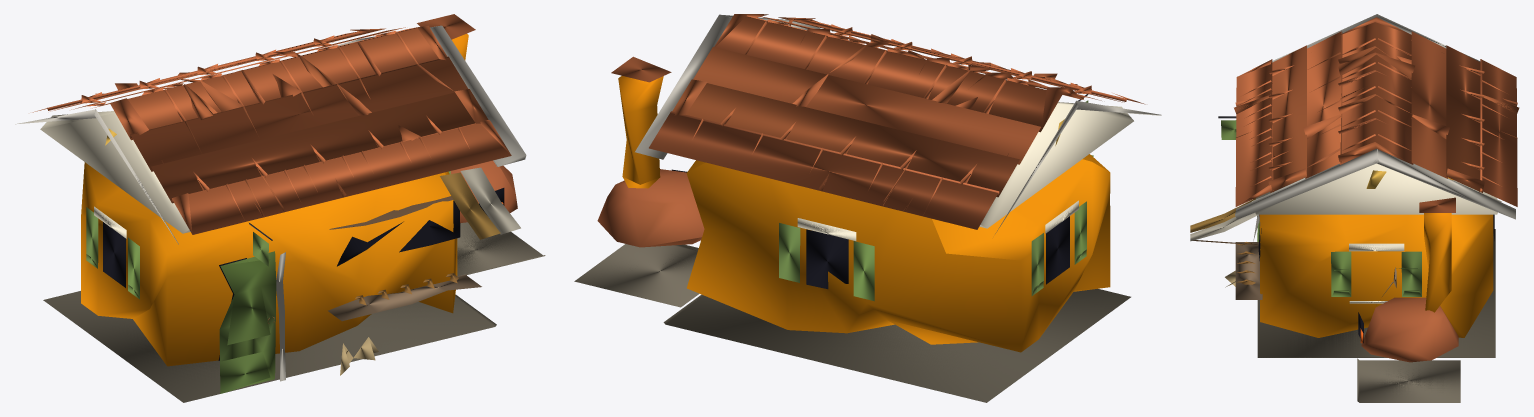
File: biz_bakery_t1.glb
3 views of the same model, side by side, from view 1: azimuth 30°, elevation 25°; view 2: azimuth 150°, elevation 25°; view 3: azimuth 270°, elevation 25° (orthographic). The views are drawn at different scales.
Parts seen in each view (by area): view 1: ochre, terracotta0, terracotta1, terracotta2, stone_dark, olive_wood, cream, marble, dark, stone, wood, cloth_ochre (+3 smaller); view 2: ochre, terracotta0, terracotta1, stone_dark, terracotta2, cream, stone, olive_wood, dark, marble; view 3: ochre, terracotta0, terracotta1, terracotta2, cream, stone_dark, marble, stone, olive_wood, wood, cloth_cream, cloth_ochre.
Boxes of the visible parts, x1,y1,x2,y2 form: ochre: [81, 33, 468, 366]; terracotta0: [32, 14, 511, 234]; terracotta1: [50, 28, 517, 223]; terracotta2: [47, 27, 489, 220]; stone_dark: [43, 291, 496, 402]; olive_wood: [86, 171, 450, 393]; cream: [40, 45, 339, 238]; marble: [15, 25, 526, 381]; dark: [103, 188, 504, 360]; stone: [457, 222, 545, 276]; wood: [328, 274, 481, 321]; cloth_ochre: [440, 172, 500, 239]; ochre: [618, 76, 1110, 352]; terracotta0: [611, 14, 1145, 229]; terracotta1: [597, 16, 1124, 247]; stone_dark: [663, 289, 1130, 402]; terracotta2: [670, 16, 1126, 214]; cream: [797, 102, 1133, 240]; stone: [574, 244, 699, 307]; olive_wood: [779, 100, 1093, 301]; dark: [671, 169, 1069, 289]; marble: [635, 14, 1161, 233]; ochre: [1259, 177, 1493, 337]; terracotta0: [1235, 17, 1517, 212]; terracotta1: [1234, 32, 1519, 362]; terracotta2: [1238, 31, 1512, 192]; cream: [1252, 163, 1501, 303]; stone_dark: [1257, 229, 1495, 357]; marble: [1235, 14, 1515, 241]; stone: [1357, 358, 1460, 402]; olive_wood: [1221, 120, 1421, 296]; wood: [1235, 242, 1396, 299]; cloth_cream: [1190, 212, 1258, 241]; cloth_ochre: [1190, 198, 1255, 232].
Size of the model in its own units: 7.69 by 4.22 by 5.92.
